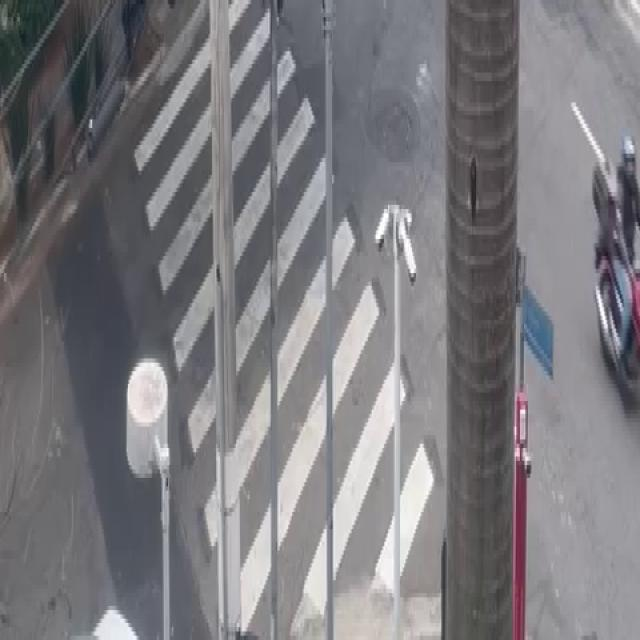motorbike: (588, 128, 640, 405)
